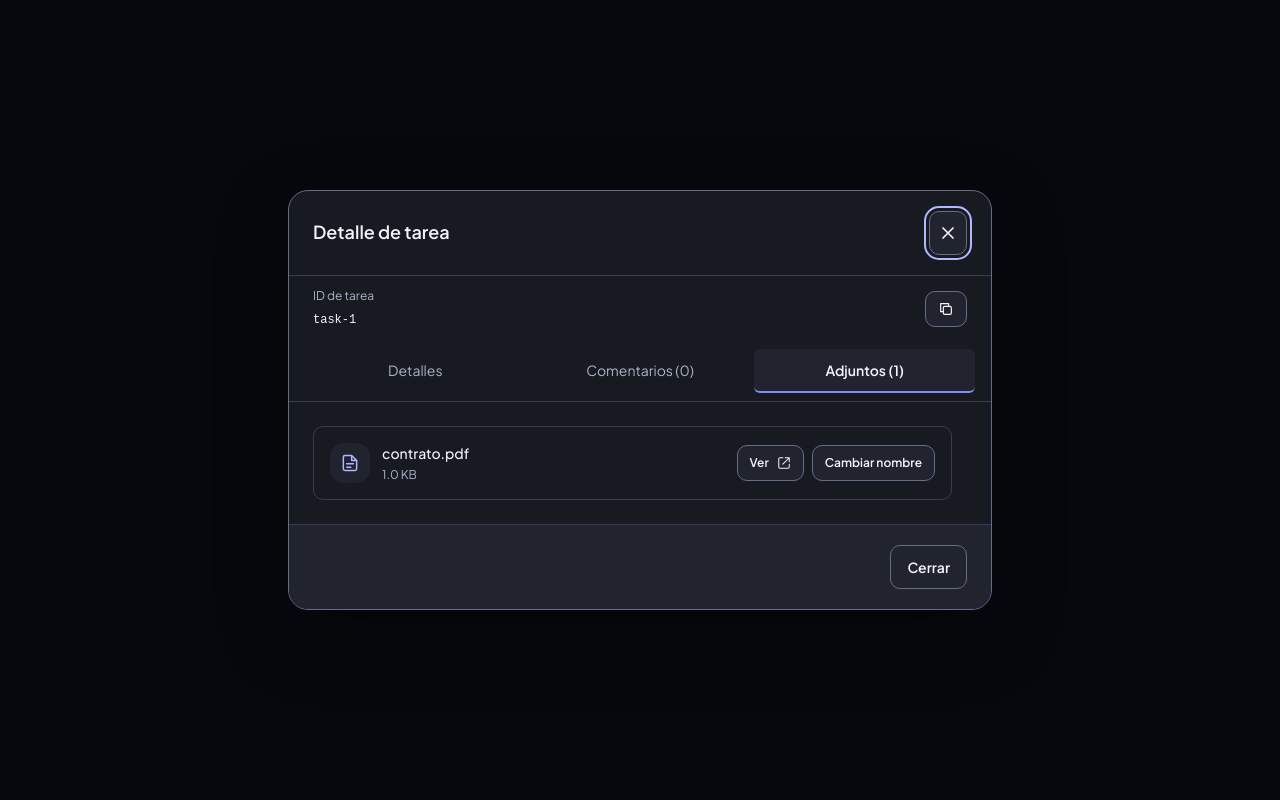
Test case: Gestión de adjuntos › conserva el nombre en edición y muestra error si el renombrado falla
This screenshot has width=1280, height=800.
Click the button with aria-label "Cambiar nombre de contrato.pdf": (873, 463) [812,445,935,481]
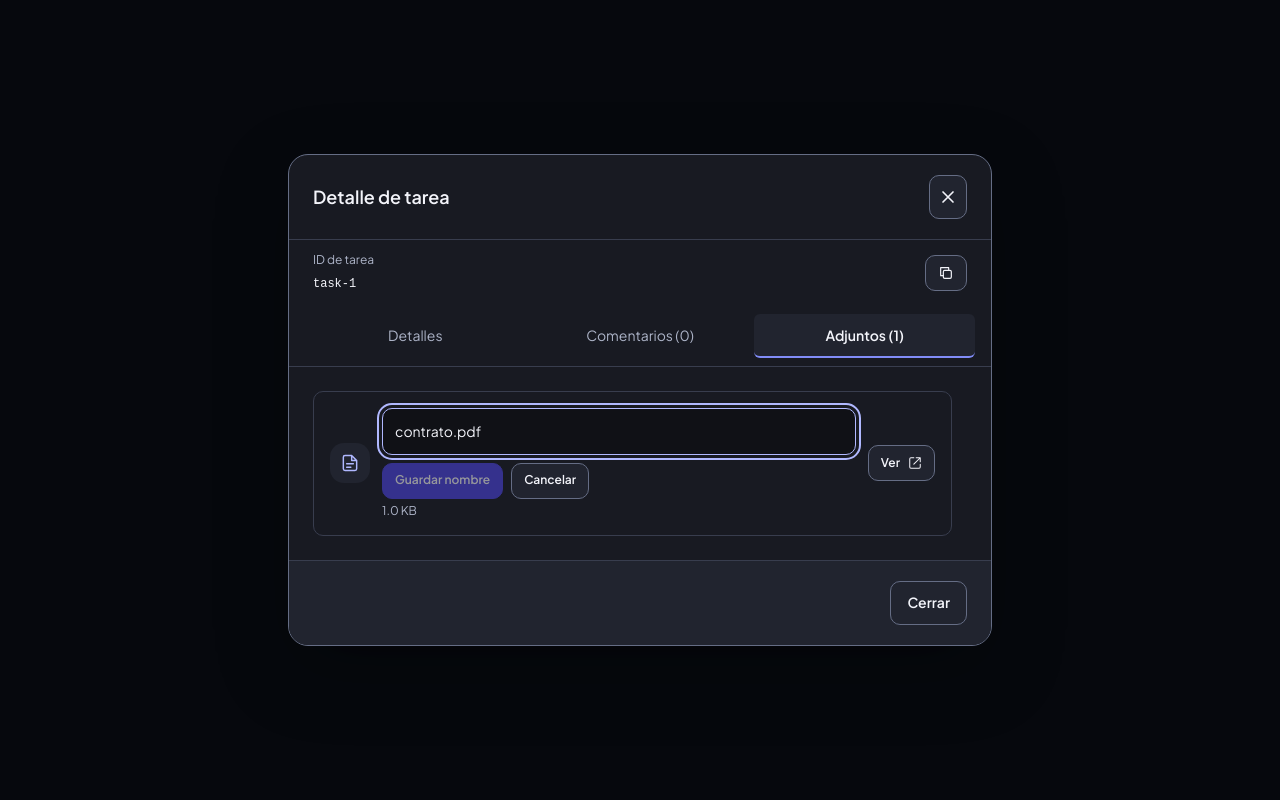
Replace the text in the field named "Nuevo nombre de contrato.pdf" with "borrador.pdf": (619, 431) [382,408,856,455]
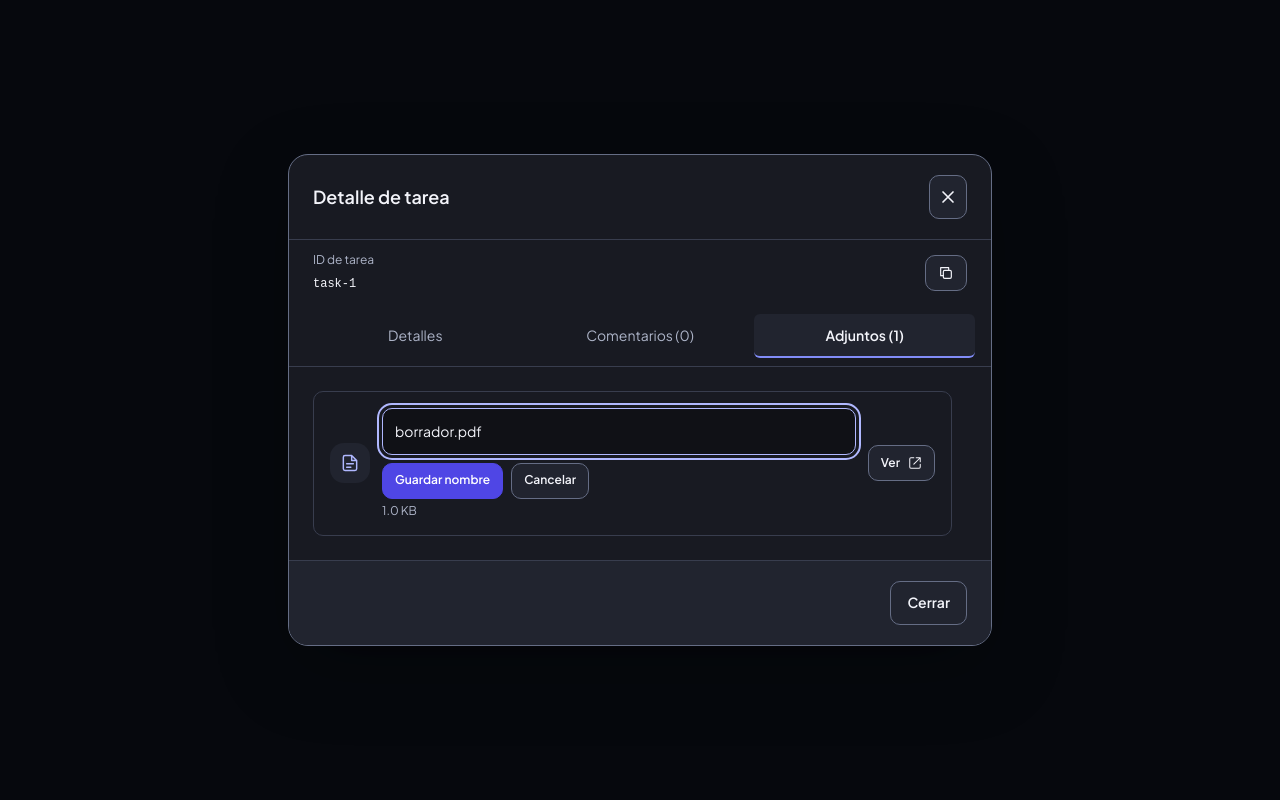
Click the button "Guardar nombre": (443, 481) [382,463,503,499]
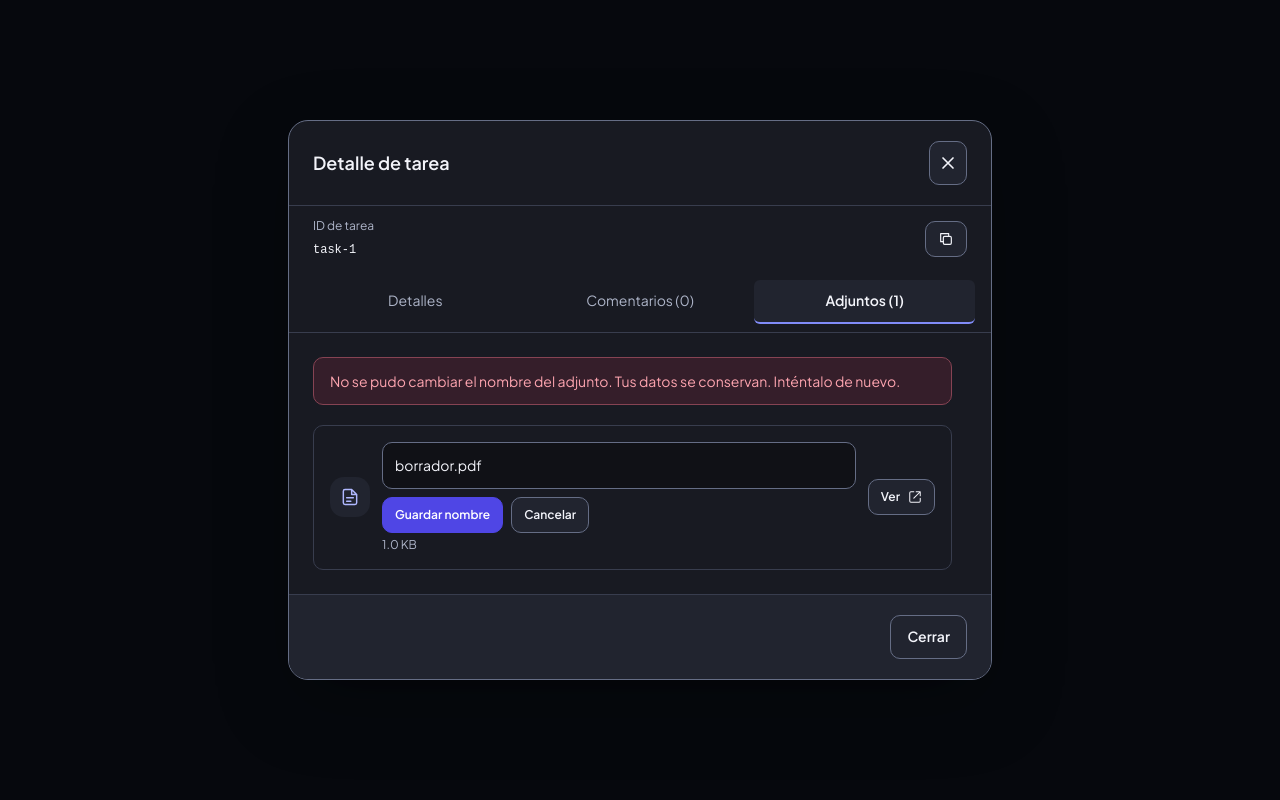
Now the message shows "No se pudo cambiar el nombre del adjunto", box [330,372,900,390]
